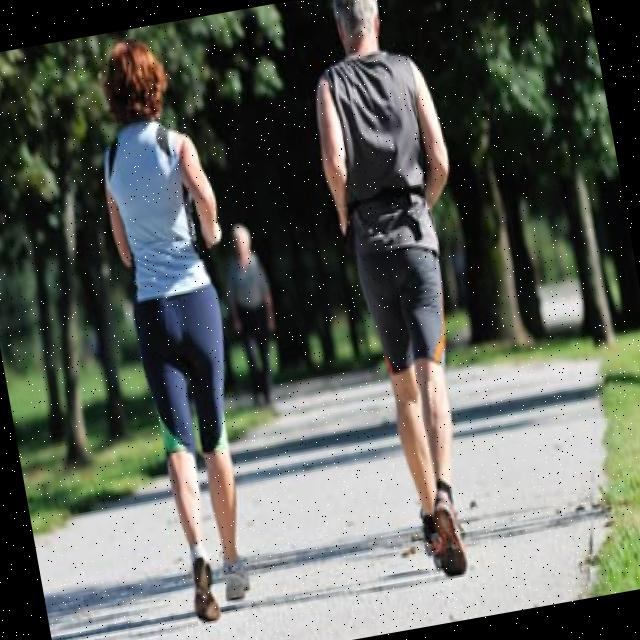Person: (294, 0, 519, 585), (68, 29, 286, 628)
